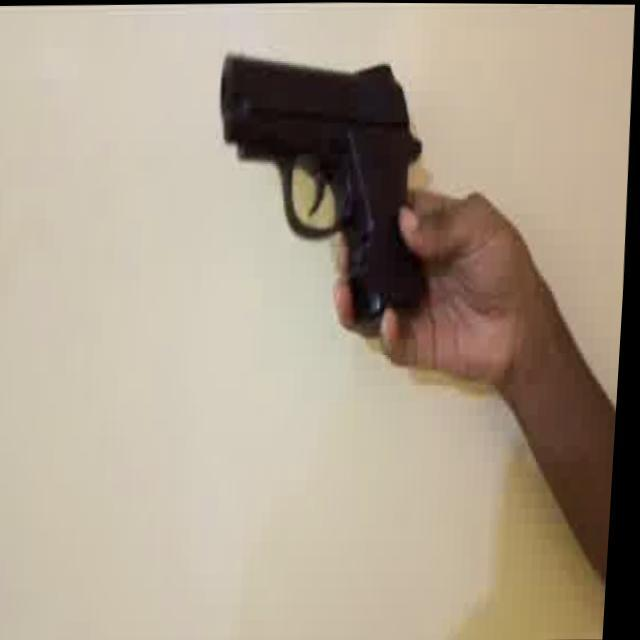weapon: (208, 46, 440, 326)
